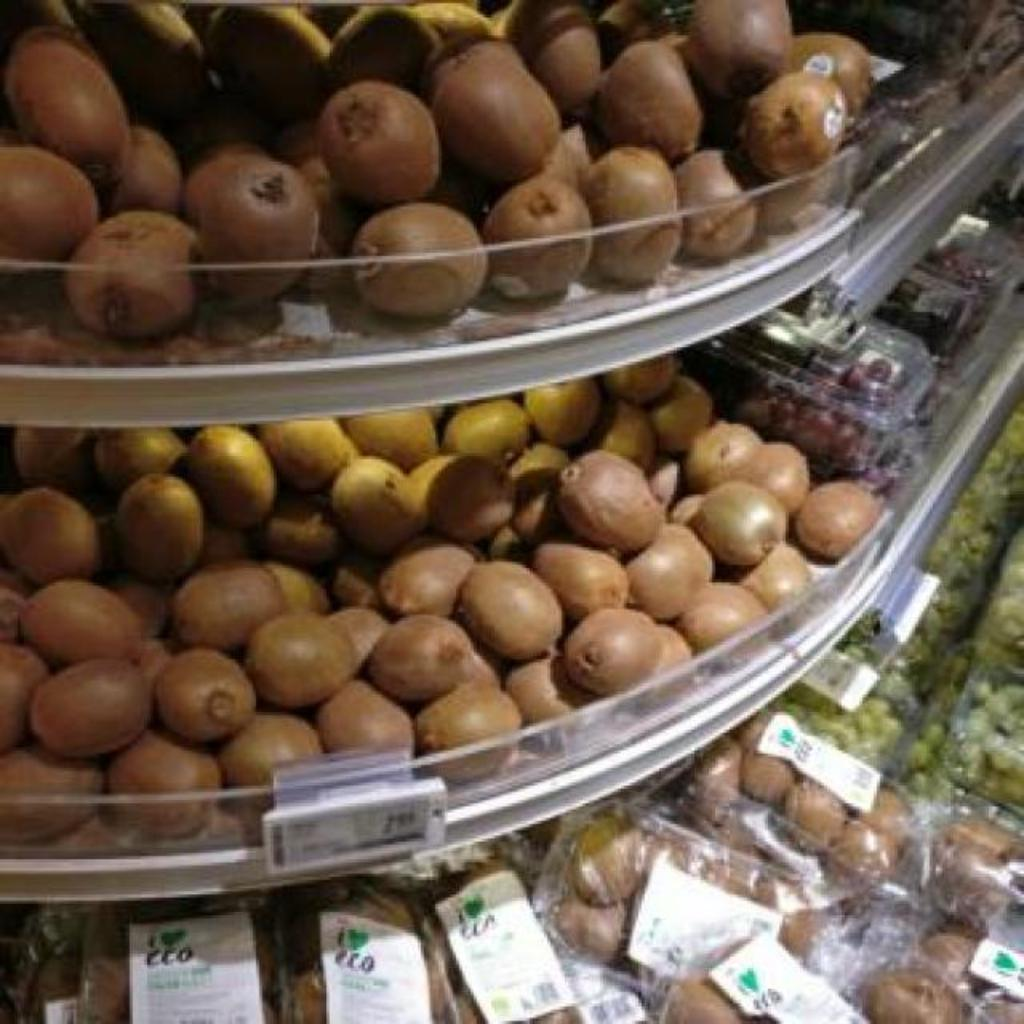kiwi: (432, 42, 560, 182), (6, 28, 126, 166), (66, 212, 192, 336), (186, 144, 318, 262), (320, 80, 440, 206), (356, 204, 486, 316), (110, 730, 220, 838), (600, 44, 702, 160), (740, 70, 848, 178), (30, 660, 150, 756), (558, 450, 664, 554), (0, 146, 98, 258), (246, 612, 358, 708), (22, 580, 142, 664), (686, 0, 788, 96), (174, 562, 282, 652), (514, 0, 600, 112), (464, 562, 562, 658), (118, 474, 204, 582), (334, 456, 424, 556), (188, 426, 276, 528), (368, 616, 472, 702), (1, 756, 102, 844), (2, 488, 96, 582), (676, 150, 756, 260), (158, 650, 254, 740), (564, 608, 662, 696), (626, 526, 714, 622), (692, 480, 788, 566), (416, 682, 522, 754), (220, 712, 322, 786), (428, 456, 514, 542), (534, 542, 628, 620), (380, 542, 476, 616), (588, 148, 678, 226), (318, 680, 414, 752), (265, 418, 358, 492), (489, 176, 590, 244), (792, 32, 872, 114), (796, 482, 880, 560), (676, 584, 766, 652), (344, 408, 438, 470), (490, 243, 592, 300), (96, 428, 186, 492), (446, 398, 530, 466), (512, 442, 568, 544), (113, 127, 180, 210), (264, 494, 340, 566), (734, 442, 810, 514), (684, 422, 762, 492), (594, 225, 682, 286), (1, 642, 48, 754), (740, 542, 812, 612), (526, 378, 598, 444), (652, 376, 712, 454), (15, 428, 92, 484), (508, 656, 570, 722), (333, 608, 390, 668), (605, 361, 678, 406), (598, 405, 648, 470), (265, 562, 330, 612), (212, 272, 300, 304), (656, 624, 689, 669)
